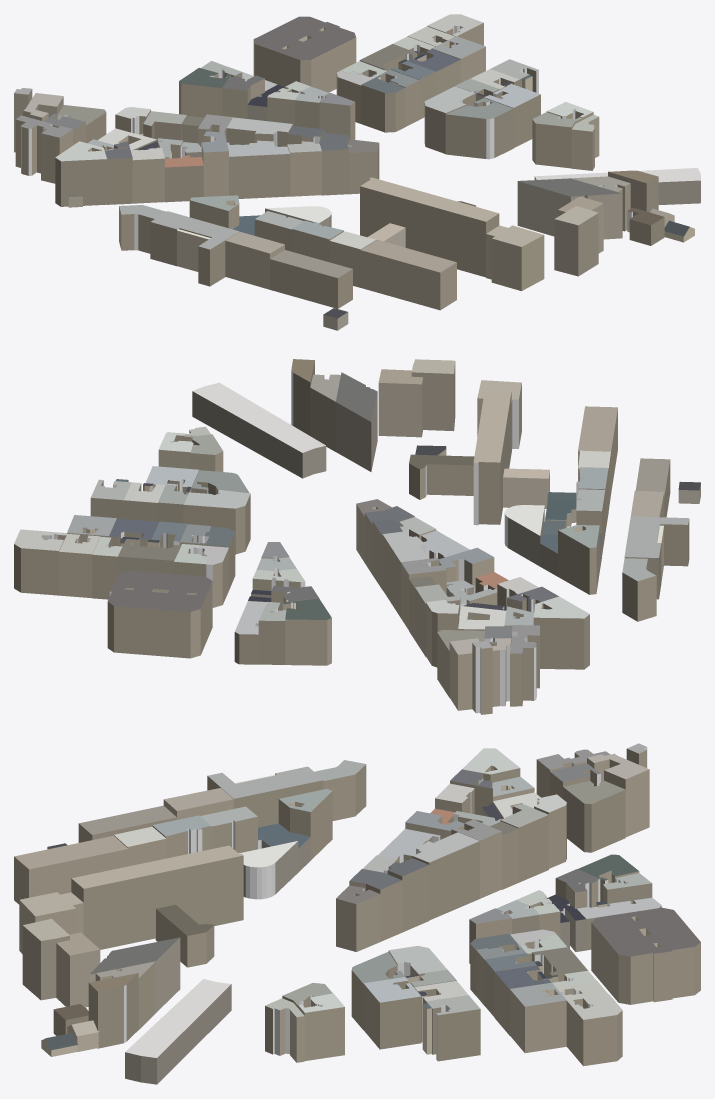
The picture shows the model from 3 angles, top to bottom: view 1: azimuth 30°, elevation 25°; view 2: azimuth 150°, elevation 25°; view 3: azimuth 270°, elevation 25°; orthographic projection. The views are drawn at different scales.
Parts seen in each view (by area): view 1: tuile; view 2: tuile; view 3: tuile.
Part boxes in pixels (x1,y1,x2,y2): tuile: (14, 14, 700, 330); tuile: (14, 359, 700, 714); tuile: (14, 743, 700, 1084).
Size of the model in its own units: 268 by 34.98 by 277.
